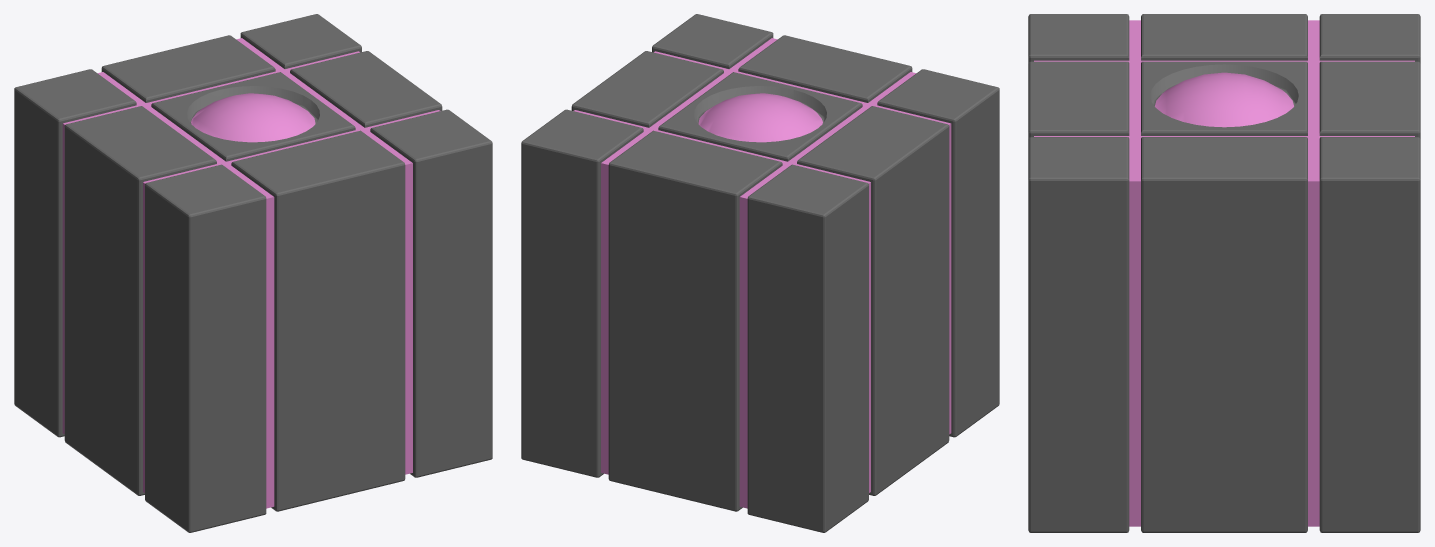
3 renders of one model, left to right at view 1: azimuth 30°, elevation 25°; view 2: azimuth 150°, elevation 25°; view 3: azimuth 270°, elevation 25°, orthographic. The views are drawn at different scales.
Parts seen in each view (by area): view 1: Cube; view 2: Cube; view 3: Cube.
Boxes of the visible parts, x1,y1,x2,y2 form: Cube: [14, 14, 492, 532]; Cube: [521, 14, 999, 532]; Cube: [1028, 14, 1420, 532].
Size of the model in its own units: 206 by 214 by 206.
